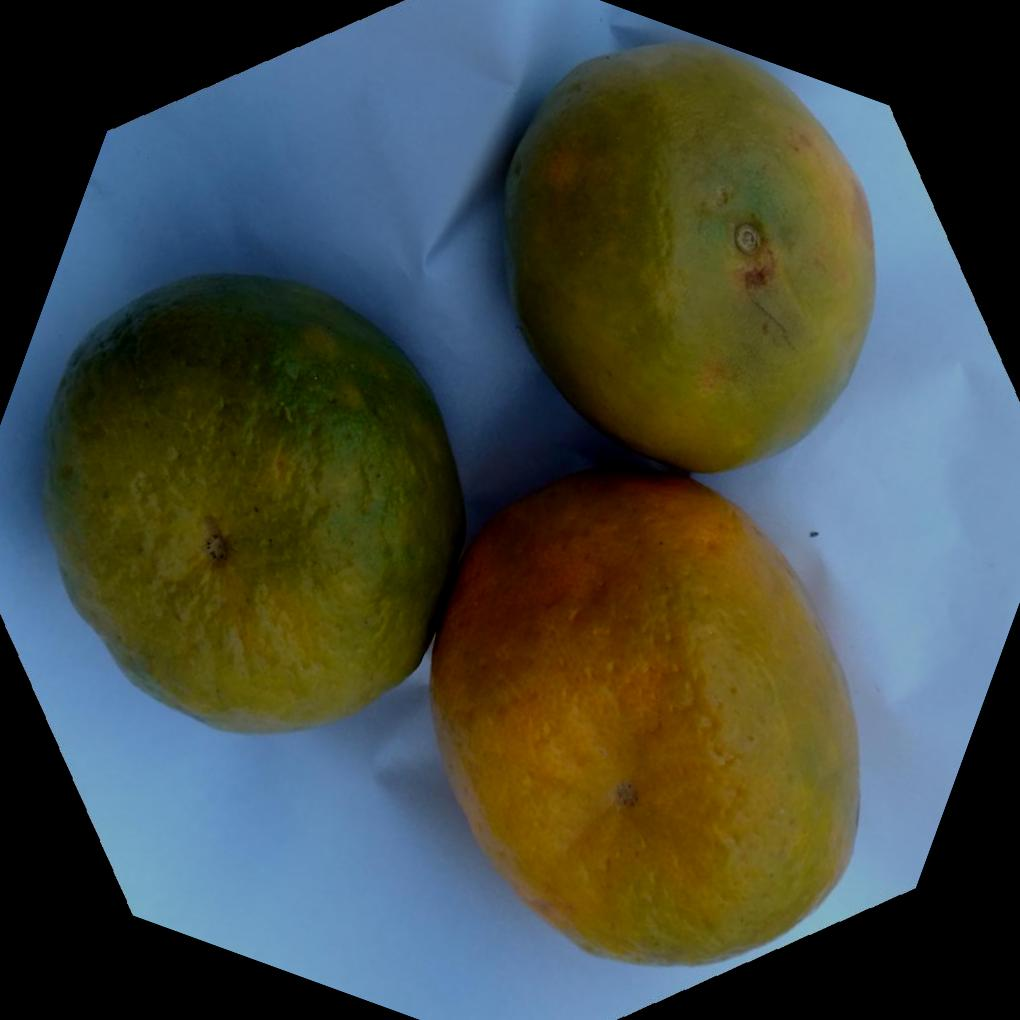FreshGuava: (35, 35, 876, 967)
